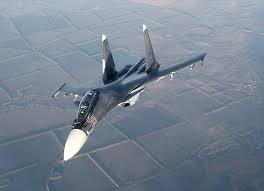maybay_muctieu: (52, 31, 198, 164)
